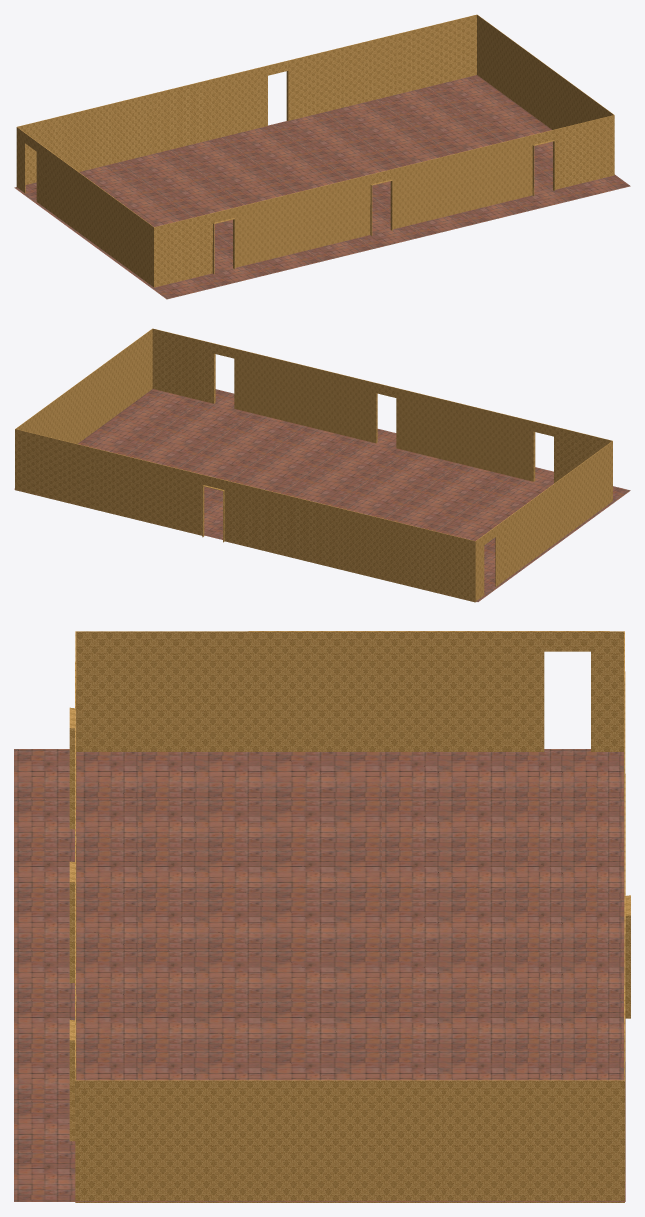
The model's file is Room_Shop.fbx.
3 views of the same model, one above another, from view 1: azimuth 30°, elevation 25°; view 2: azimuth 150°, elevation 25°; view 3: azimuth 270°, elevation 25° (orthographic). The views are drawn at different scales.
Visible parts, largest first — view 1: Walls, Plane.003; view 2: Walls, Plane.003; view 3: Plane.003, Walls.
Part boxes in pixels (x1,y1,x2,y2): Walls: (16, 14, 614, 287); Plane.003: (14, 75, 630, 299); Walls: (15, 328, 612, 602); Plane.003: (14, 389, 630, 601); Plane.003: (14, 749, 625, 1201); Walls: (69, 631, 630, 1202).
Size of the model in its own units: 2925 by 368 by 1683.
Materials: 2 (2 with a texture image).
